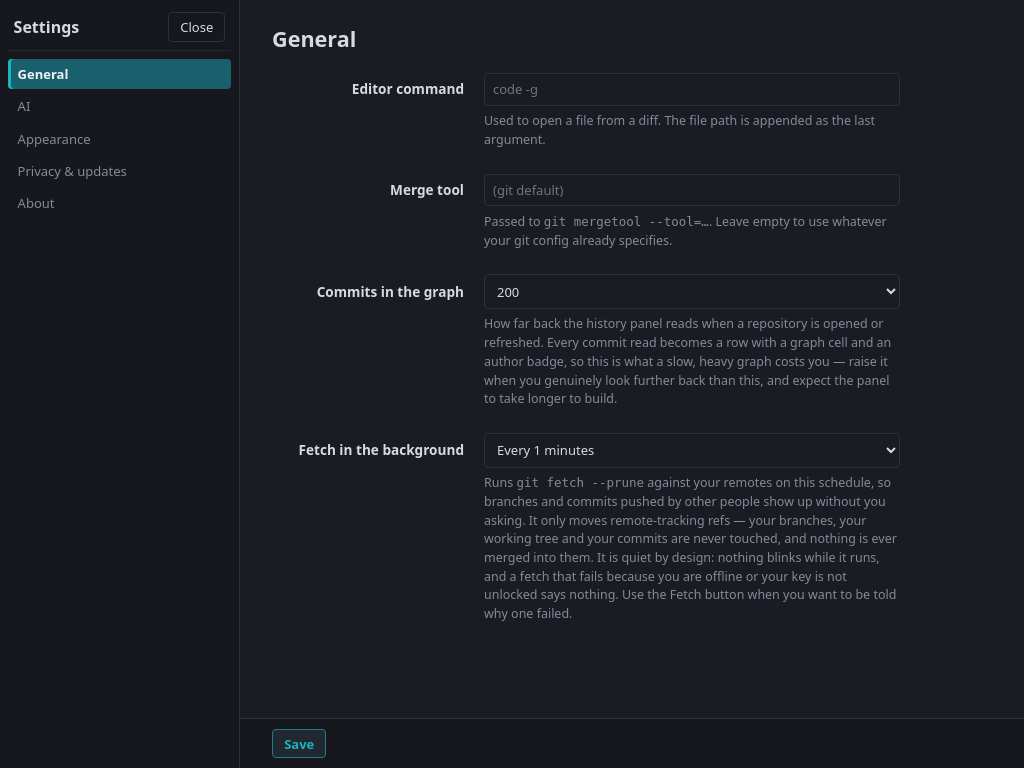
Scenario: SettingsView › reports a failed save instead of claiming success
The width and height of the screenshot is (1024, 768).
Step 1. Type "meld" into the field labelled "Merge tool" → point(692, 190), box [484,174,900,206]
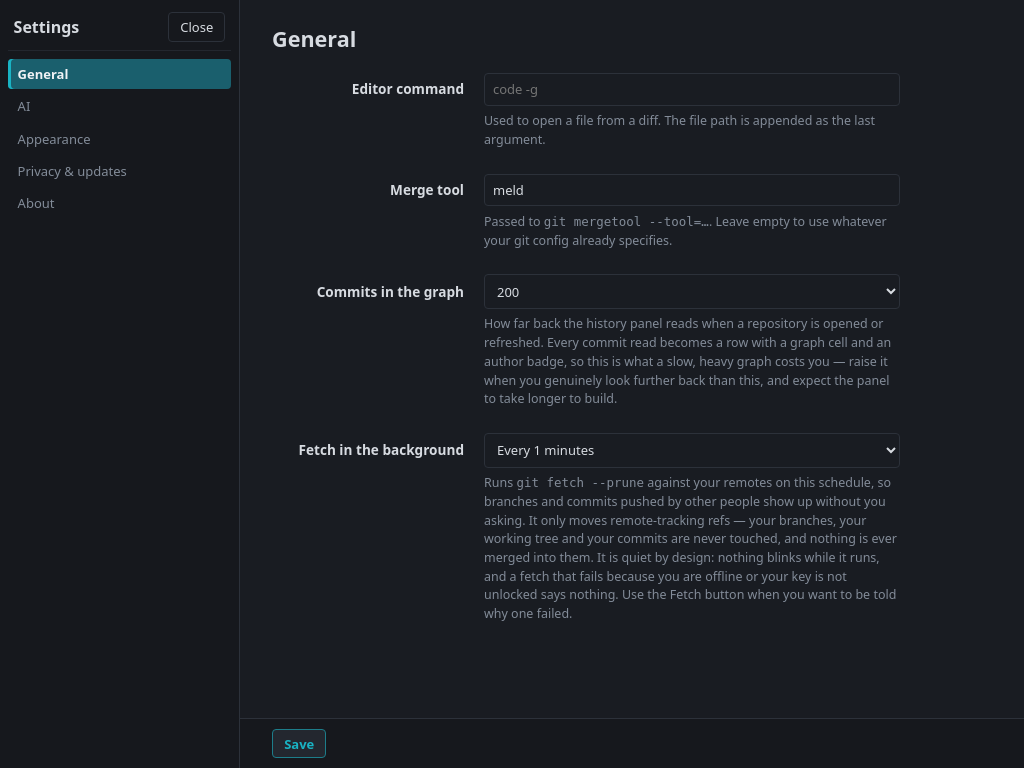
Step 2. Click the button "Save" → point(299, 744), box [272,729,326,758]
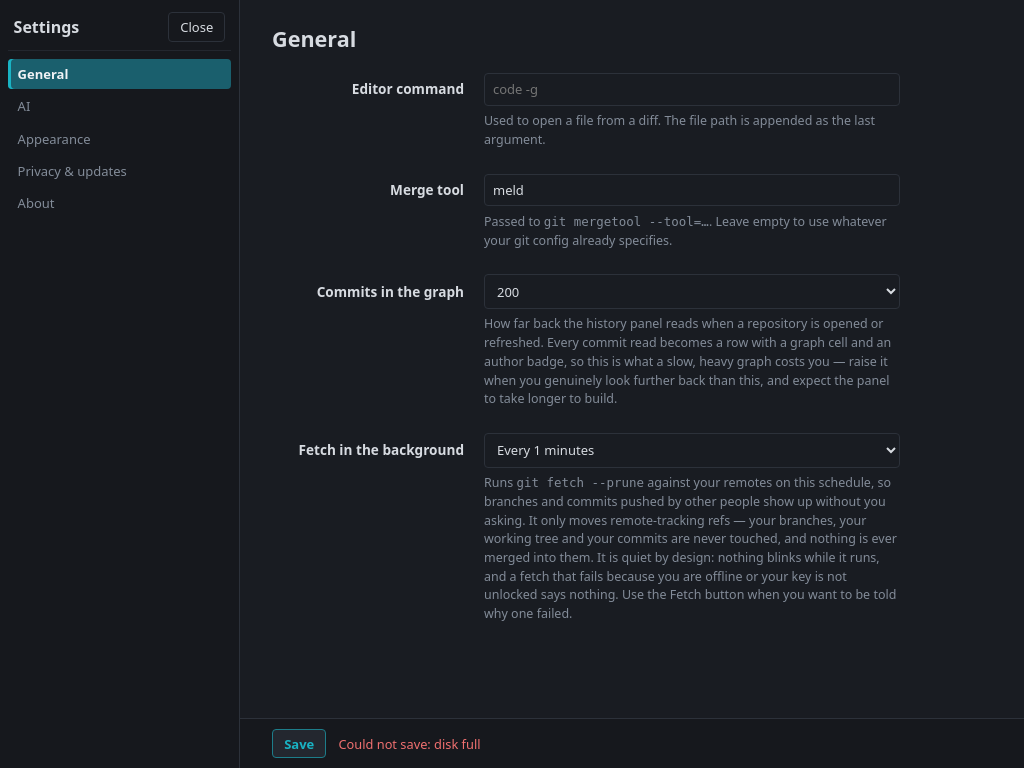
Now the message shows "disk full", box [434,735,480,753]
